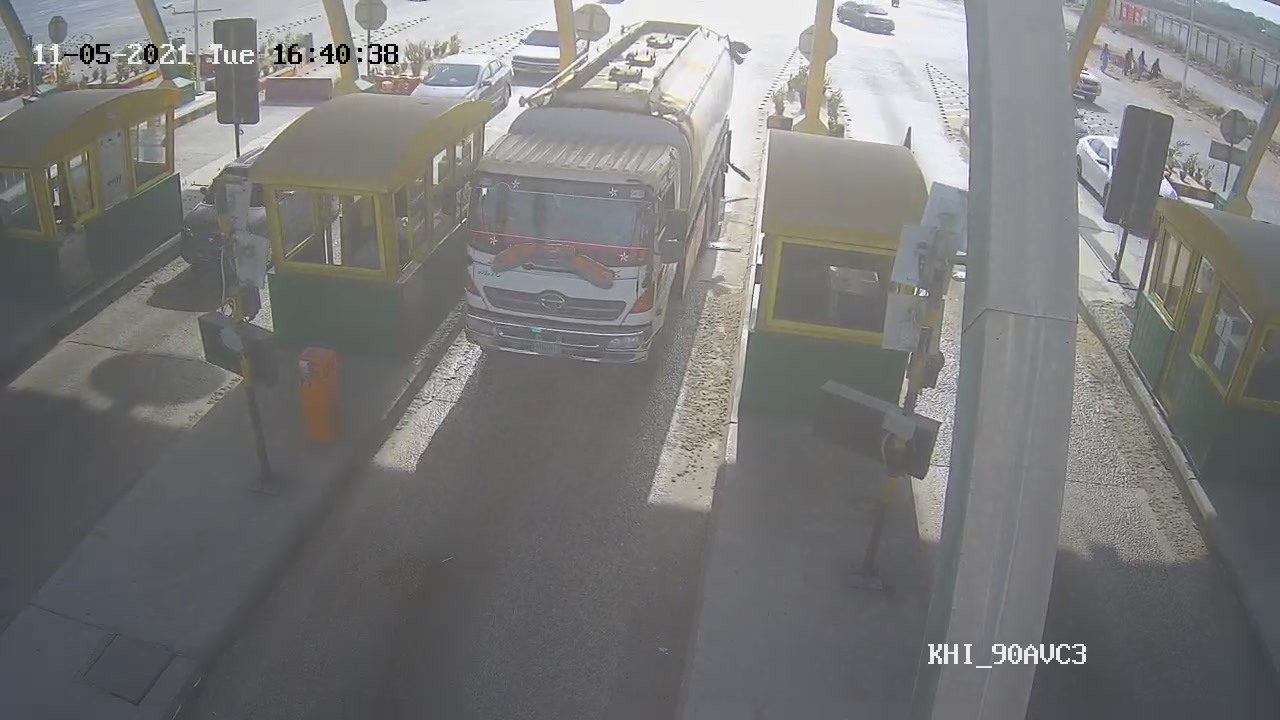F6: (461, 18, 741, 363)
